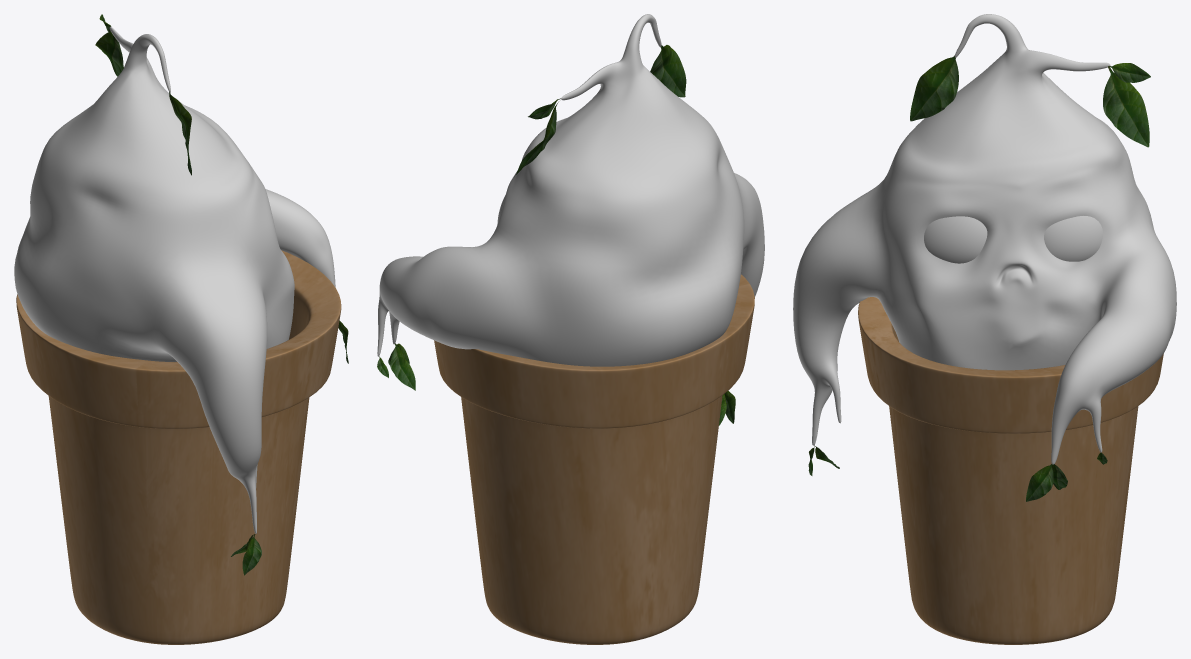
File: Alraune.fbx
The picture shows the model from 3 angles, left to right: view 1: azimuth 30°, elevation 25°; view 2: azimuth 150°, elevation 25°; view 3: azimuth 270°, elevation 25°; orthographic projection. The views are drawn at different scales.
Parts seen in each view (by area): view 1: RetopoFlow; view 2: RetopoFlow; view 3: RetopoFlow.
Part boxes in pixels (x1,y1,x2,y2): RetopoFlow: (14, 14, 348, 644); RetopoFlow: (377, 14, 764, 644); RetopoFlow: (793, 14, 1176, 644).
Bounding box in the file's own units: 0.3135 × 0.5389 × 0.3277.
